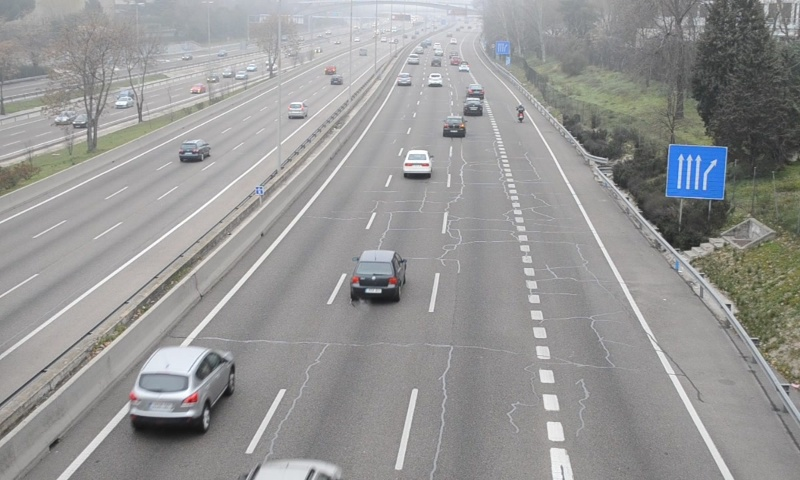car: (128, 346, 234, 420), (352, 250, 406, 297), (403, 149, 432, 176), (442, 116, 467, 138), (463, 98, 484, 116), (466, 83, 486, 98), (426, 72, 444, 88)
motorcycle: (515, 103, 526, 124)
